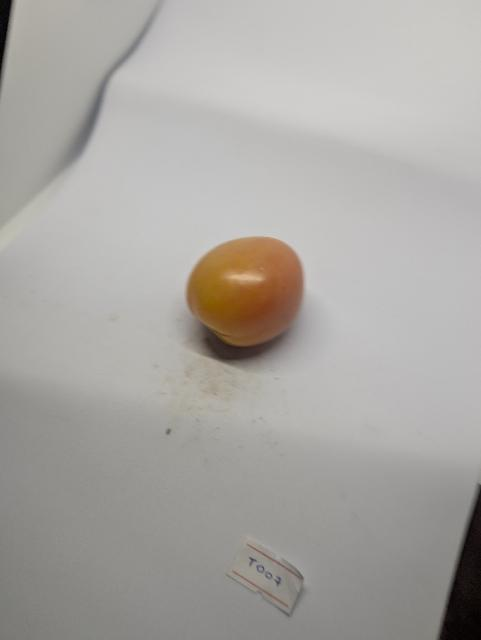turning: (179, 231, 321, 358)
